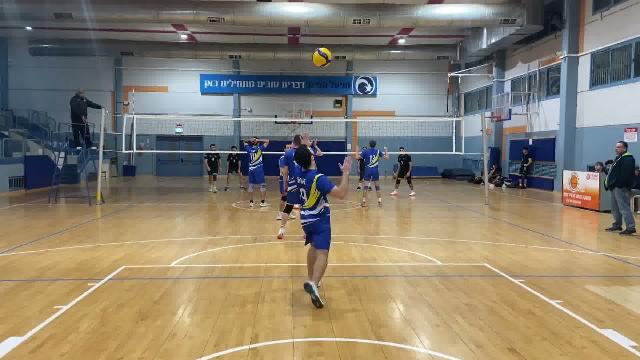ball: (311, 46, 334, 70)
